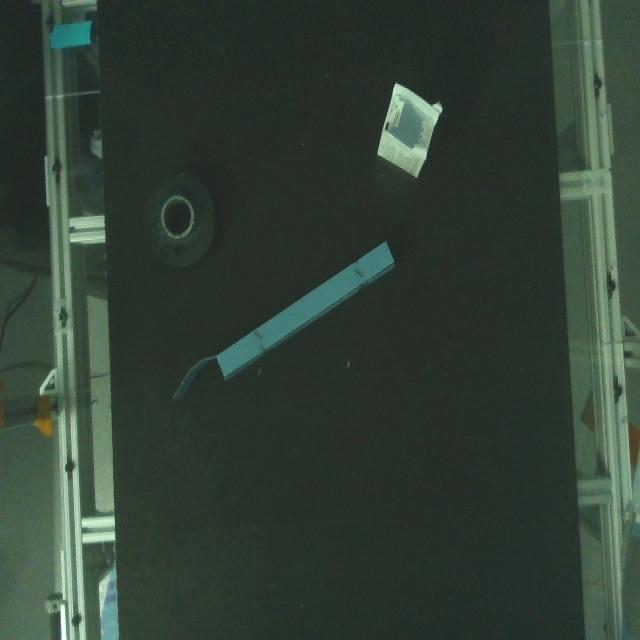non-paper: (136, 158, 230, 280)
paper: (164, 235, 405, 414), (369, 74, 460, 177)
